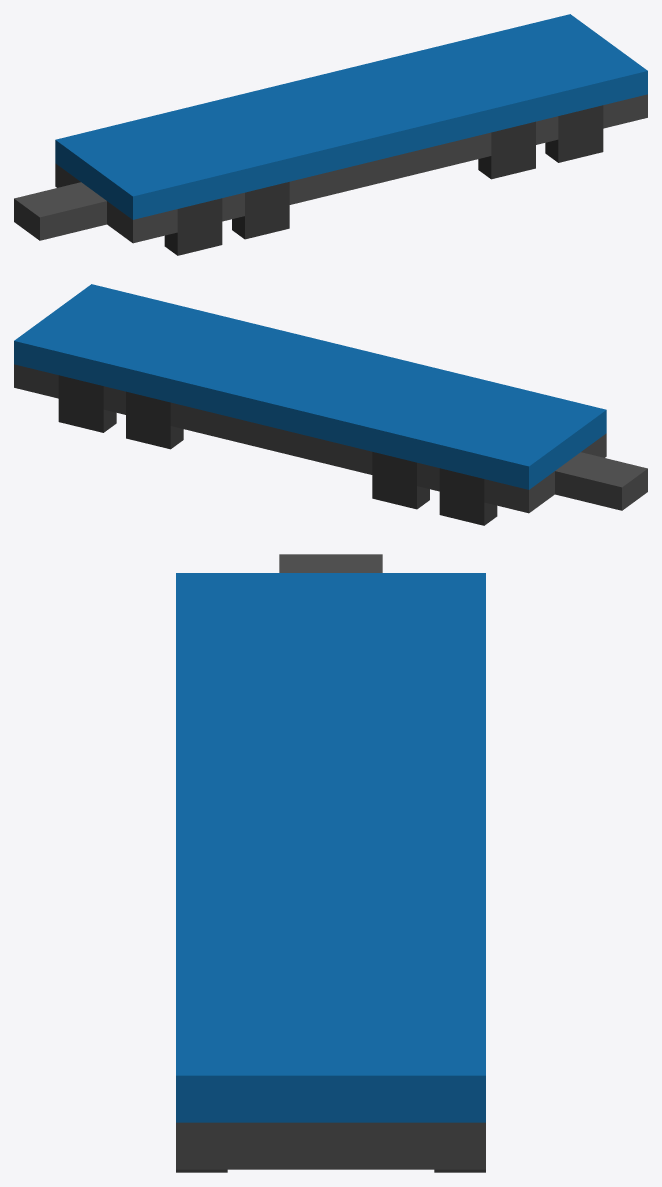
File: train-trailer-v6-blue.gltf
The picture shows the model from 3 angles, top to bottom: view 1: azimuth 30°, elevation 25°; view 2: azimuth 150°, elevation 25°; view 3: azimuth 270°, elevation 25°; orthographic projection. The views are drawn at different scales.
Parts seen in each view (by area): view 1: model, wheels; view 2: model, wheels; view 3: model.
Part boxes in pixels (x1,y1,x2,y2): model: [14, 14, 647, 243]; wheels: [164, 105, 603, 255]; model: [14, 284, 647, 513]; wheels: [58, 375, 497, 525]; model: [176, 554, 485, 1169].
Size of the model in its own units: 2.6 by 0.3 by 0.6.
Materials: 2 (2 with a texture image).
